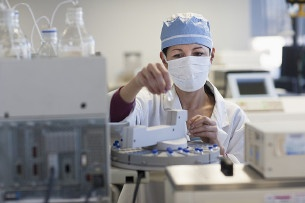Mask: (166, 45, 213, 92)
